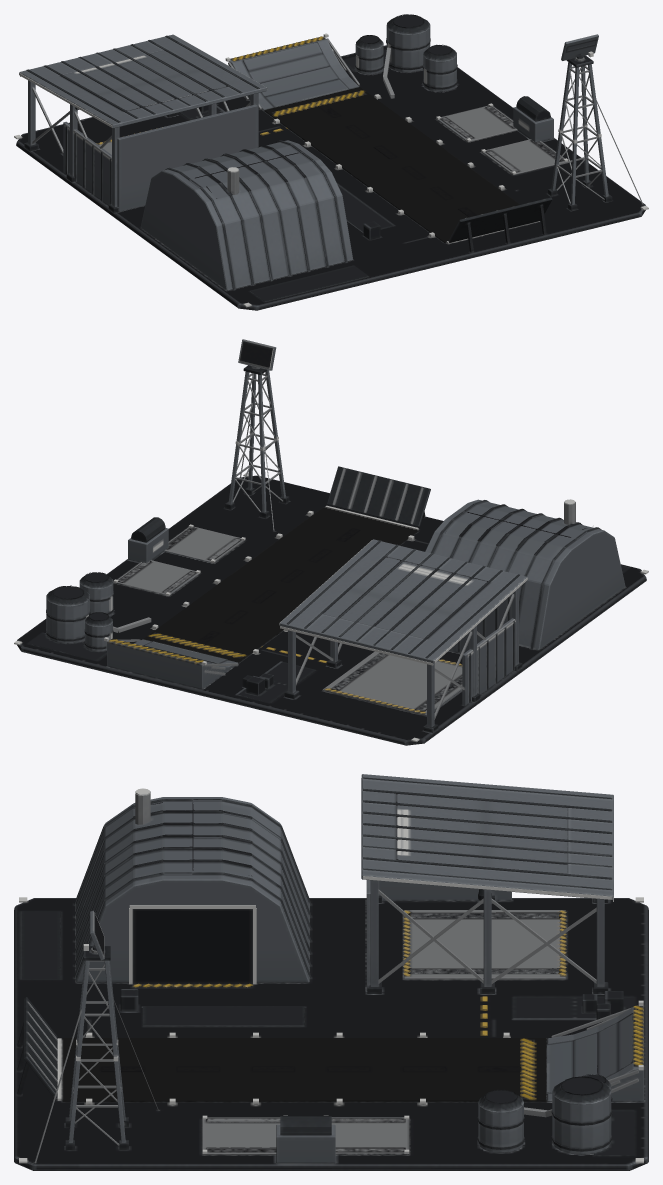
Rendered from chs_advairfield.fbx.
3 renders of one model, top to bottom at view 1: azimuth 30°, elevation 25°; view 2: azimuth 150°, elevation 25°; view 3: azimuth 270°, elevation 25°, orthographic. The views are drawn at different scales.
Visible parts, largest first — view 1: base_bar, base_glow_running_bar, radarPanel_bar; view 2: base_bar, base_glow_running_bar, radarPanel_bar, base_glow_power_bar; view 3: base_bar, base_glow_running_bar.
Part boxes in pixels (box(x1,y1,x2,y2)): base_bar: box(16, 14, 645, 310); base_glow_running_bar: box(14, 33, 648, 307); radarPanel_bar: box(561, 34, 598, 60); base_bar: box(17, 365, 646, 745); base_glow_running_bar: box(14, 431, 648, 742); radarPanel_bar: box(238, 339, 276, 370); base_glow_power_bar: box(87, 499, 575, 665); base_bar: box(14, 774, 648, 1170); base_glow_running_bar: box(19, 876, 643, 1163).
Bounding box in the file's own units: 4754 × 2017 × 4716.
Materials: 2 (2 with a texture image).
